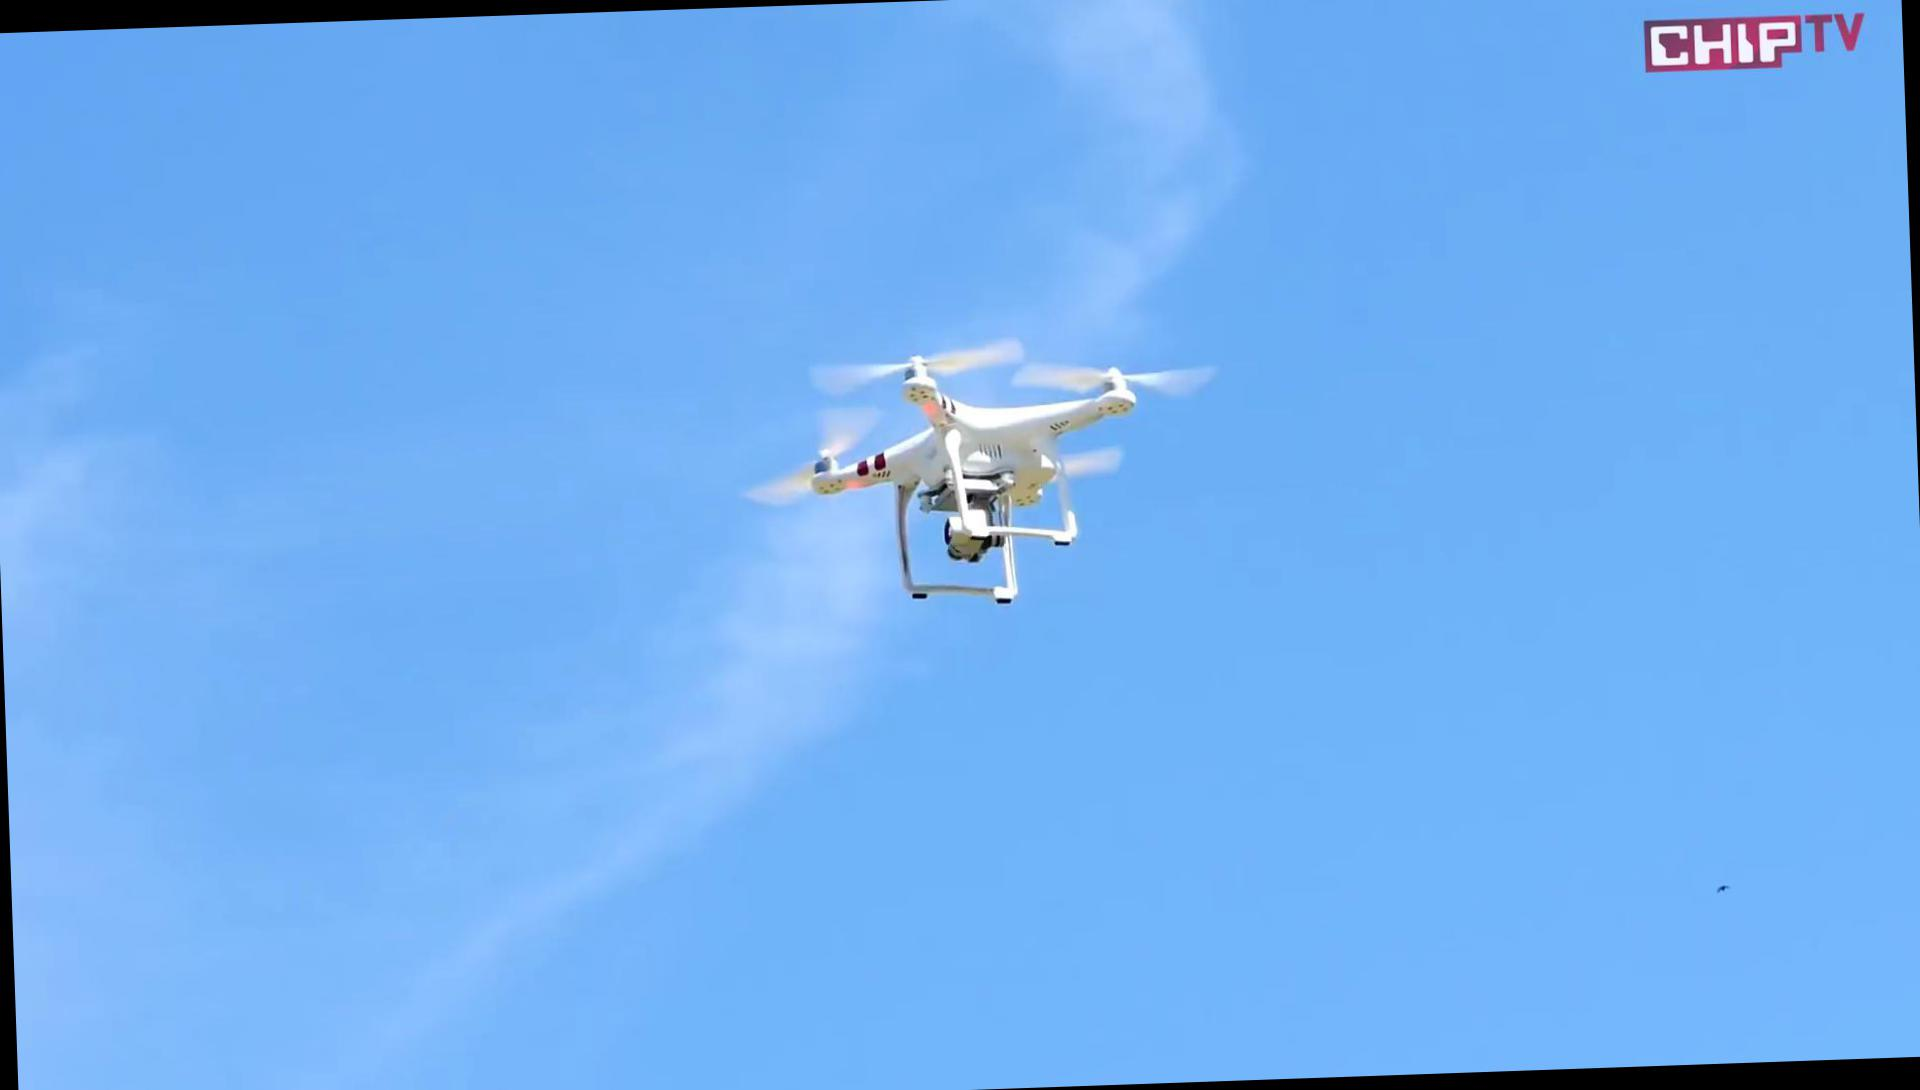drone: (794, 337, 1168, 616)
